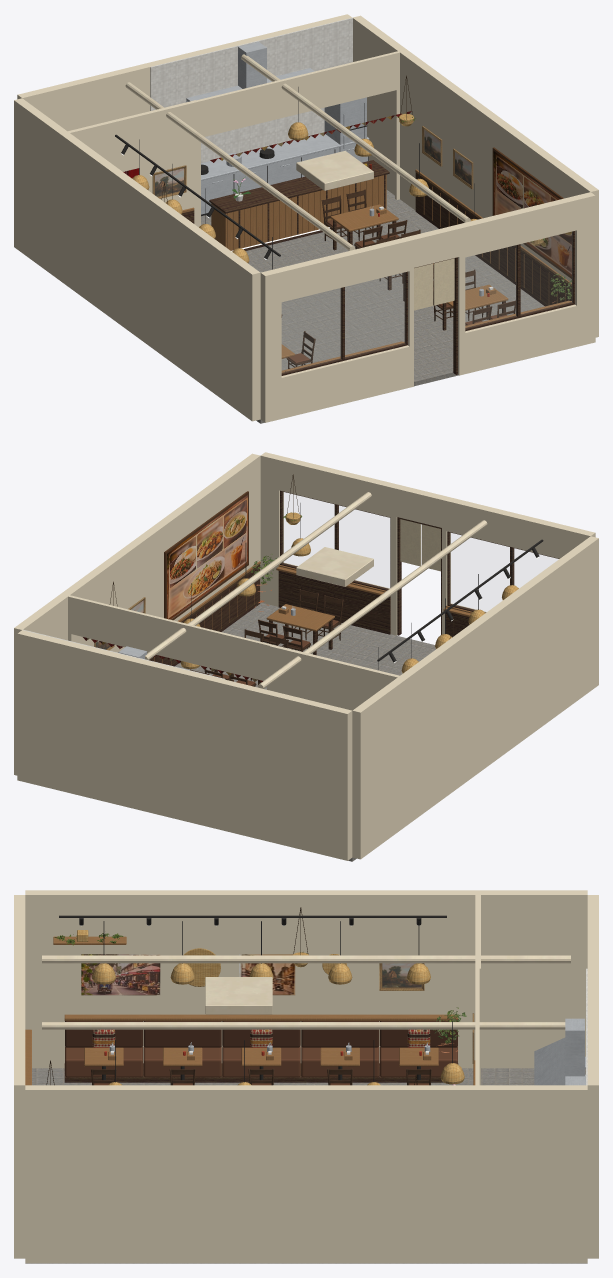
File: tz_taimi_interior.glb
3 views of the same model, one above another, from view 1: azimuth 30°, elevation 25°; view 2: azimuth 150°, elevation 25°; view 3: azimuth 270°, elevation 25° (orthographic). The views are drawn at different scales.
Parts seen in each view (by area): view 1: WALL_W, WALL_S, WALL_E, S_floor, S_wall, S_tile_w, S_steel, S_wood, WALL_N, S_duct, WALL_Efix_wood_d, S_pics (+10 smaller); view 2: WALL_N, WALL_W, WALL_S, S_wall, WALL_E, WALL_Sfix_wood_d, S_duct, S_pics, S_floor, WALL_Efix_wood_d, tz_taimi_interior_inst.001, WALL_Sfix_cloth_b (+4 smaller); view 3: WALL_E, WALL_W, S_duct, S_leather, S_wood, S_leather_d, WALL_N, WALL_S, S_wicker, S_pics, S_floor, S_steel (+7 smaller).
Part boxes in pixels (x1,y1,x2,y2): WALL_W: [14, 98, 260, 421]; WALL_S: [260, 192, 595, 422]; WALL_E: [353, 15, 598, 337]; S_floor: [201, 190, 544, 423]; S_wall: [68, 51, 399, 227]; S_tile_w: [150, 17, 352, 163]; S_steel: [185, 41, 483, 296]; S_wood: [182, 174, 508, 358]; WALL_N: [17, 14, 351, 171]; S_duct: [125, 54, 470, 250]; WALL_Efix_wood_d: [415, 172, 571, 306]; S_pics: [493, 151, 571, 276]; WALL_N: [17, 630, 352, 860]; WALL_W: [352, 536, 598, 859]; WALL_S: [260, 452, 595, 635]; S_wall: [68, 595, 399, 710]; WALL_E: [14, 453, 260, 775]; WALL_Sfix_wood_d: [278, 490, 558, 637]; S_duct: [145, 492, 487, 688]; S_pics: [167, 495, 247, 619]; S_floor: [175, 602, 435, 861]; WALL_Efix_wood_d: [149, 564, 260, 666]; tz_taimi_interior_inst.001: [190, 589, 343, 686]; WALL_Sfix_cloth_b: [400, 519, 440, 571]; WALL_E: [25, 1085, 587, 1263]; WALL_W: [25, 890, 587, 1068]; S_duct: [42, 955, 570, 1029]; S_leather: [65, 1047, 457, 1085]; S_wood: [53, 936, 475, 1085]; S_leather_d: [65, 1021, 457, 1047]; WALL_N: [587, 895, 598, 1258]; WALL_S: [14, 895, 25, 1258]; S_wicker: [77, 930, 464, 1085]; S_pics: [81, 954, 295, 995]; S_floor: [25, 1068, 587, 1263]; S_steel: [109, 1018, 585, 1085].
Size of the model in its own units: 8.4 by 3.5 by 10.4.
26 materials, 21 textured.
